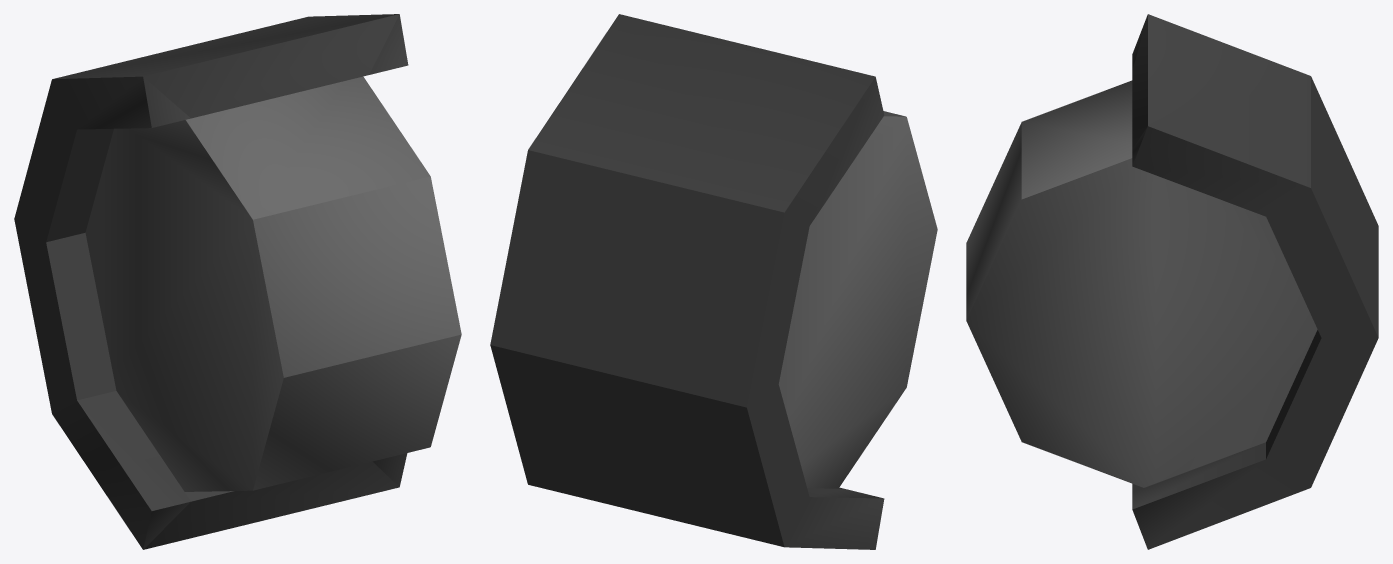
Rendered from Chair_Wheel_003.glb.
The picture shows the model from 3 angles, left to right: view 1: azimuth 30°, elevation 25°; view 2: azimuth 150°, elevation 25°; view 3: azimuth 270°, elevation 25°; orthographic projection. The views are drawn at different scales.
Parts seen in each view (by area): view 1: Chair Wheel.003; view 2: Chair Wheel.003; view 3: Chair Wheel.003.
Boxes of the visible parts, x1,y1,x2,y2 form: Chair Wheel.003: (14, 14, 461, 549); Chair Wheel.003: (490, 14, 937, 549); Chair Wheel.003: (966, 14, 1378, 549).
Size of the model in its own units: 0.0611 by 0.1078 by 0.095.
Materials: 1 (1 with a texture image).
